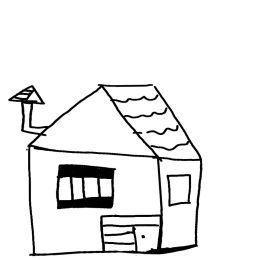bottom_placed_house: (1, 1, 260, 260)
chimney: (0, 75, 54, 139)
closed_window: (50, 160, 124, 214)
door: (97, 211, 165, 257)
open_window: (163, 172, 197, 209)
roof: (20, 72, 214, 166)
wall: (20, 137, 173, 255)
